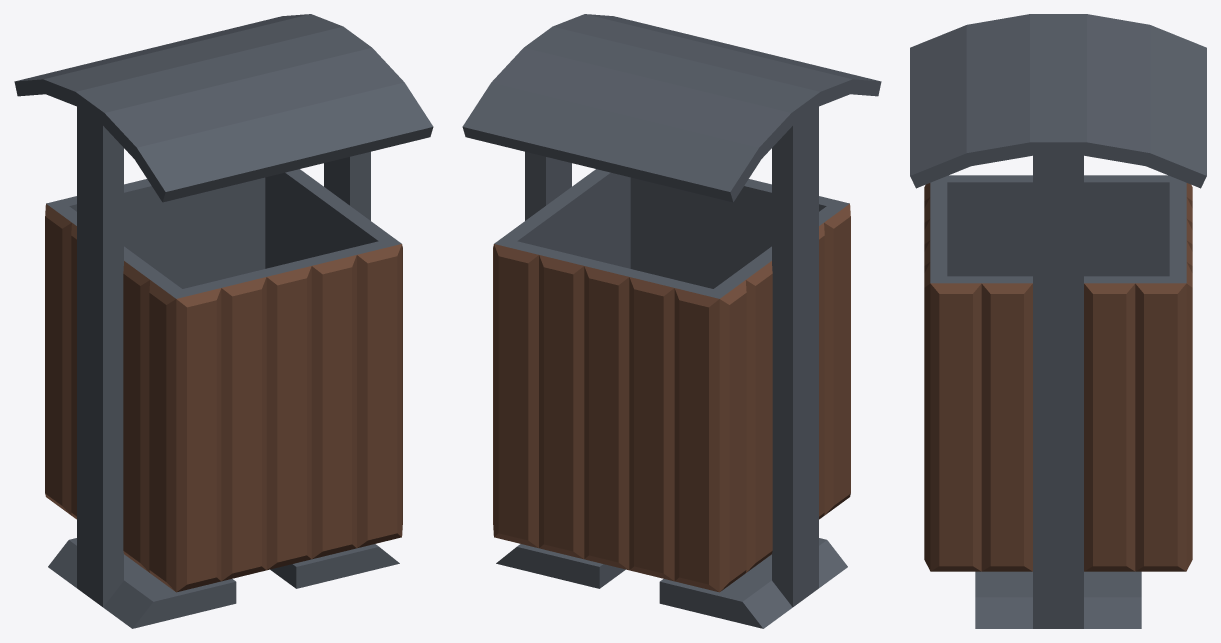
Rendered from FancyCityBin.fbx.
3 views of the same model, side by side, from view 1: azimuth 30°, elevation 25°; view 2: azimuth 150°, elevation 25°; view 3: azimuth 270°, elevation 25° (orthographic).
Visible parts, largest first — view 1: FancyCityBin; view 2: FancyCityBin; view 3: FancyCityBin.
Part boxes in pixels (x1,y1,x2,y2): FancyCityBin: (14, 14, 433, 628); FancyCityBin: (462, 14, 881, 628); FancyCityBin: (910, 14, 1206, 628).
Size of the model in its own units: 63.69 by 113 by 62.27.
